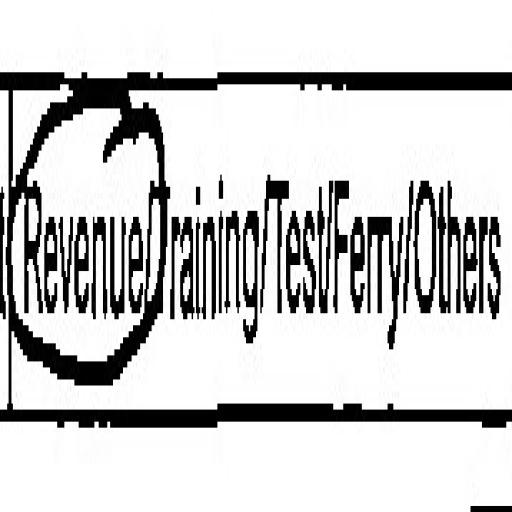check: (1, 0, 155, 469)
